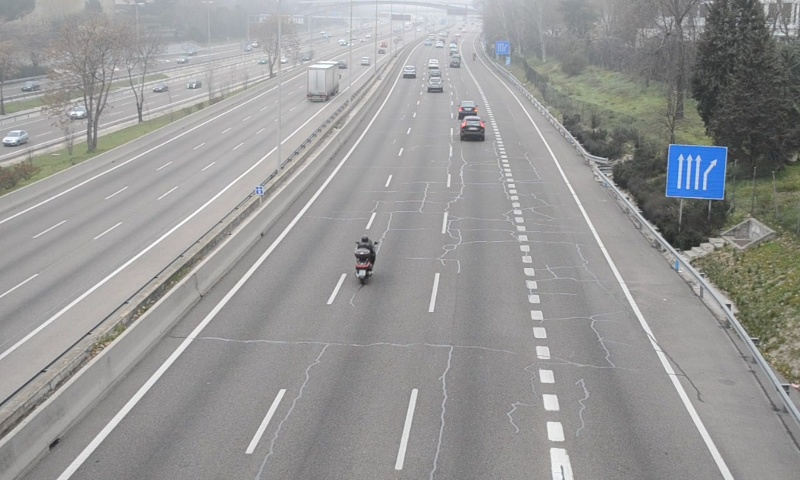car: (460, 116, 486, 140), (457, 99, 477, 118)
motorcycle: (352, 234, 378, 286)
